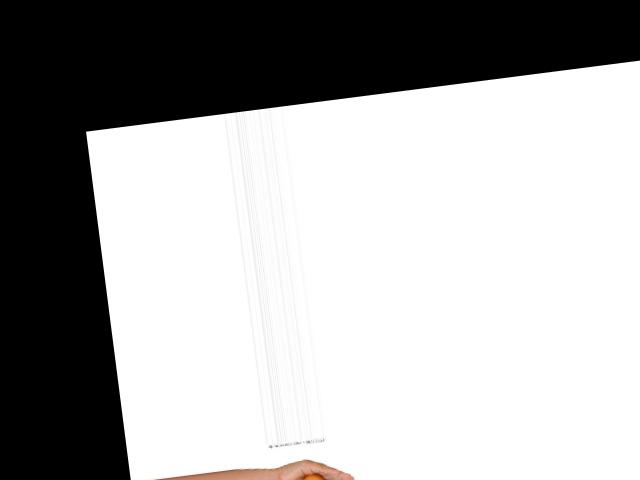egg: (300, 471, 329, 480)
